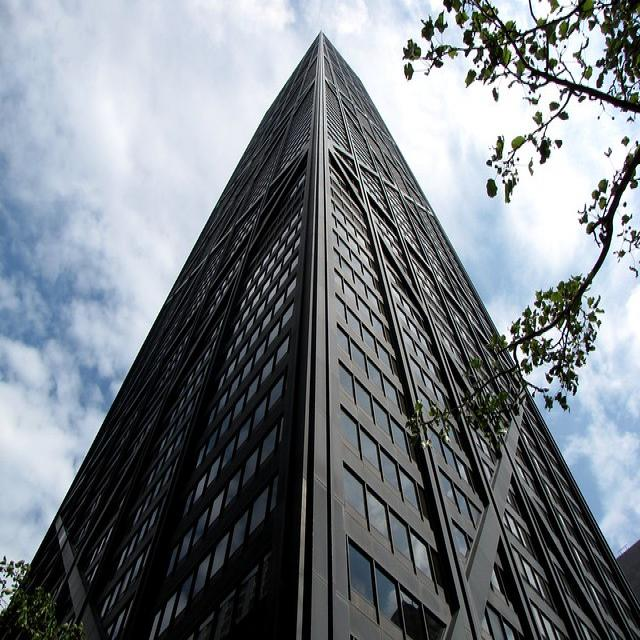Normal_building: (13, 21, 640, 639)
